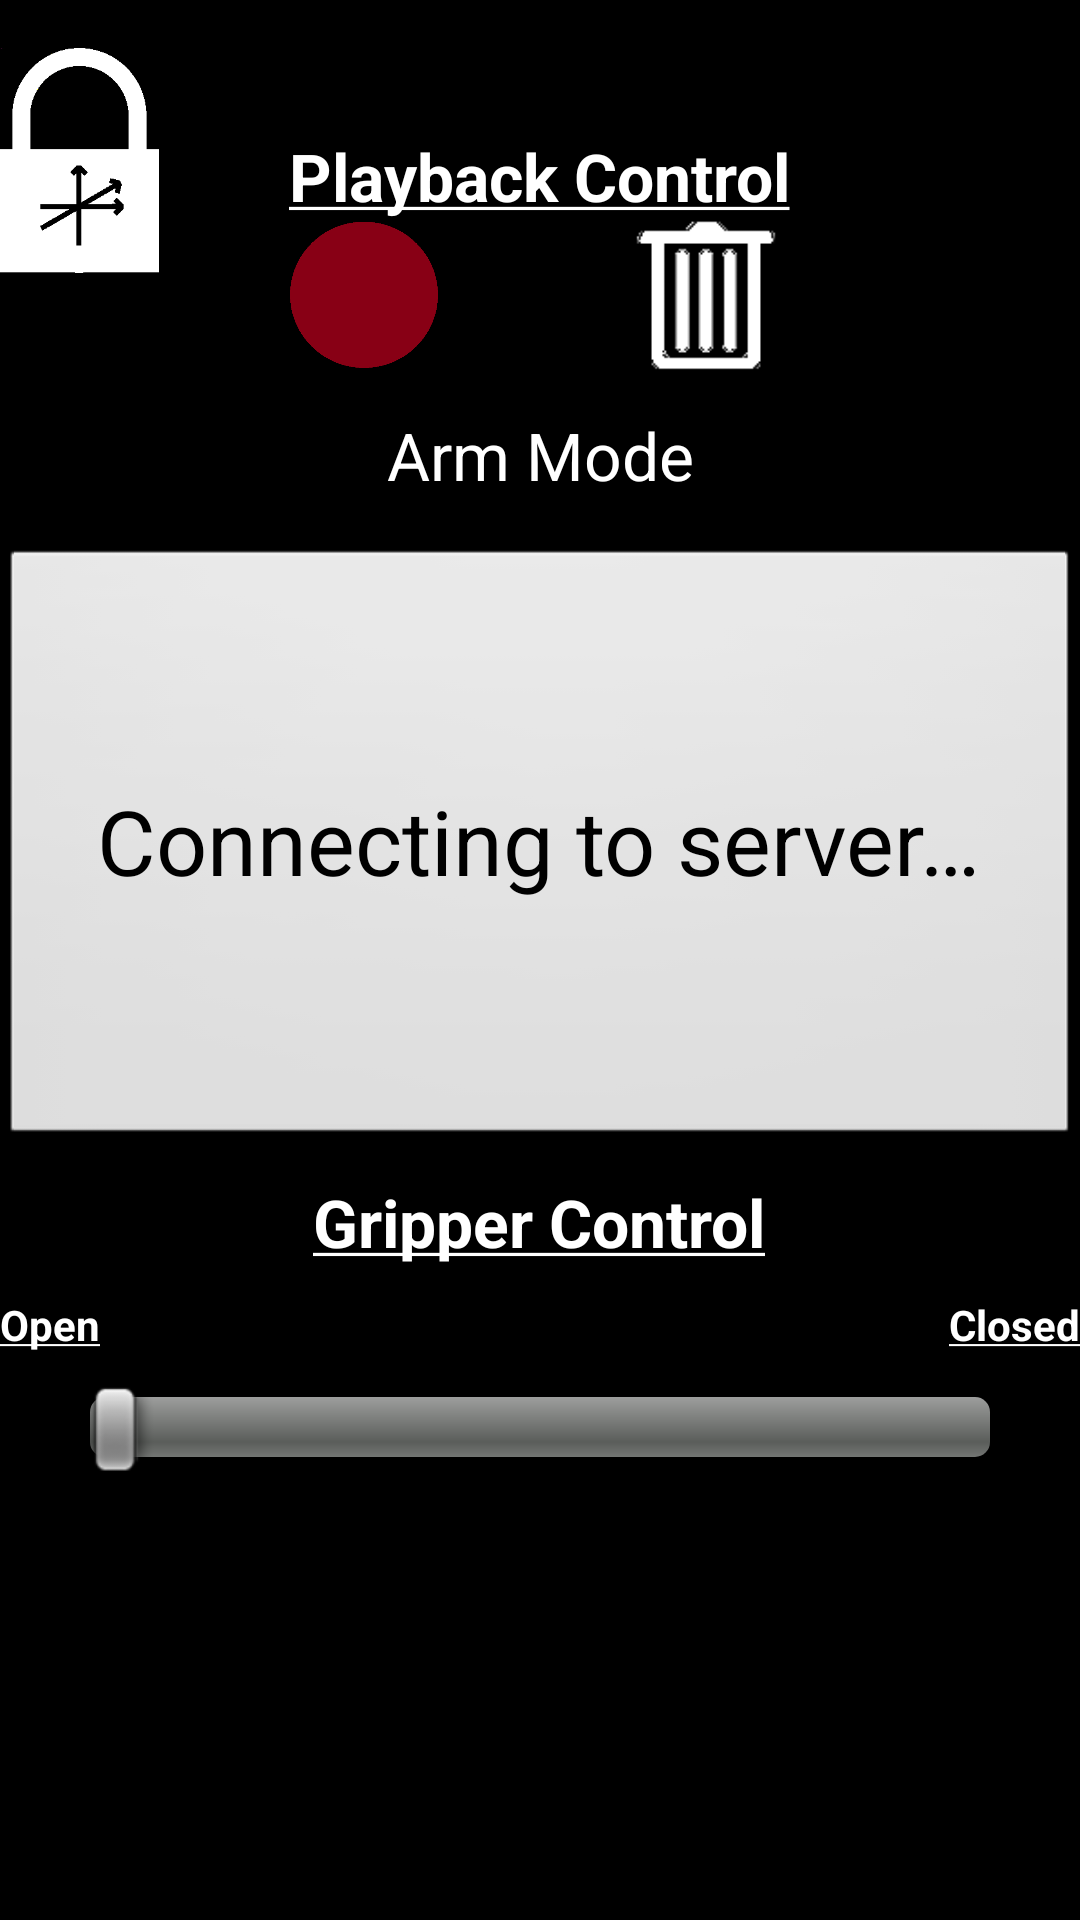

Icons on this 1080w x 1920h Android screen, each with its box as rect(x1, y1, x2, y2):
record: rect(290, 222, 438, 368)
trash: rect(636, 221, 776, 369)
